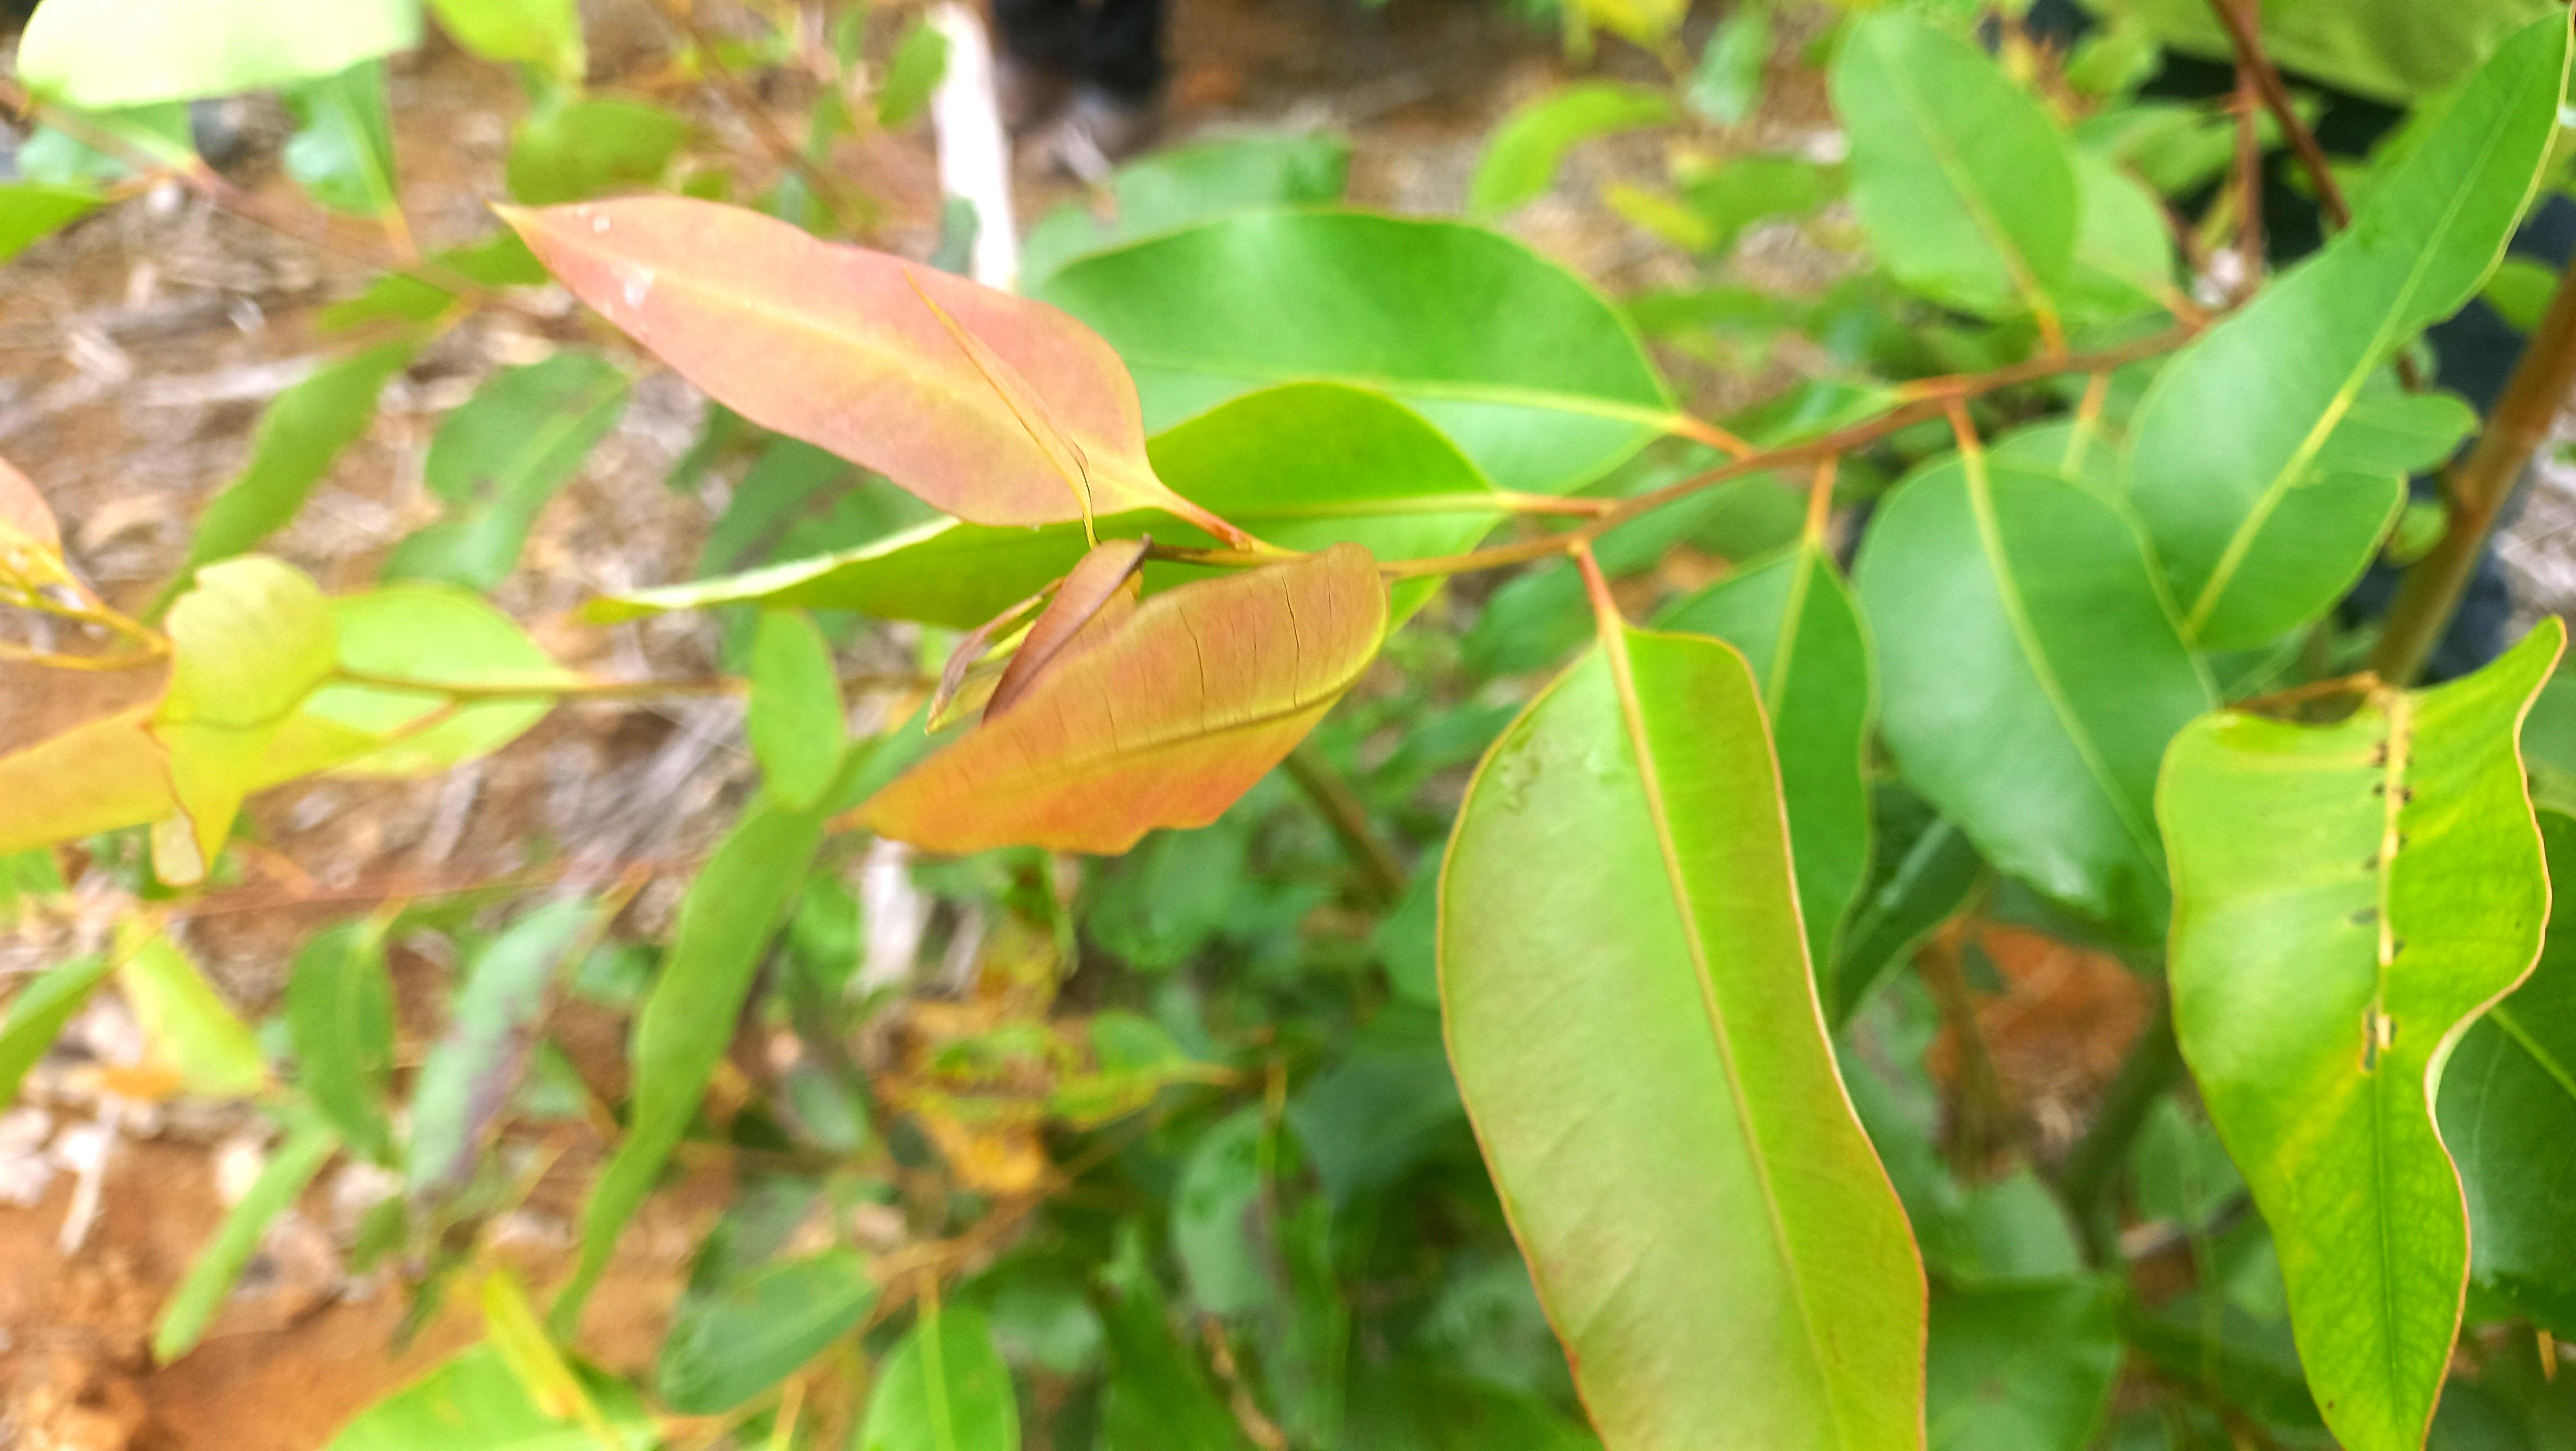Helopeltis-Withered Sprout: (984, 536, 1152, 725), (902, 579, 1054, 731)
